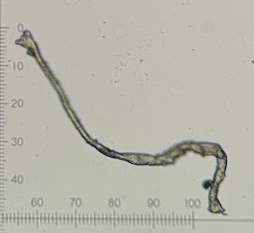microplastic: (14, 29, 228, 215)
